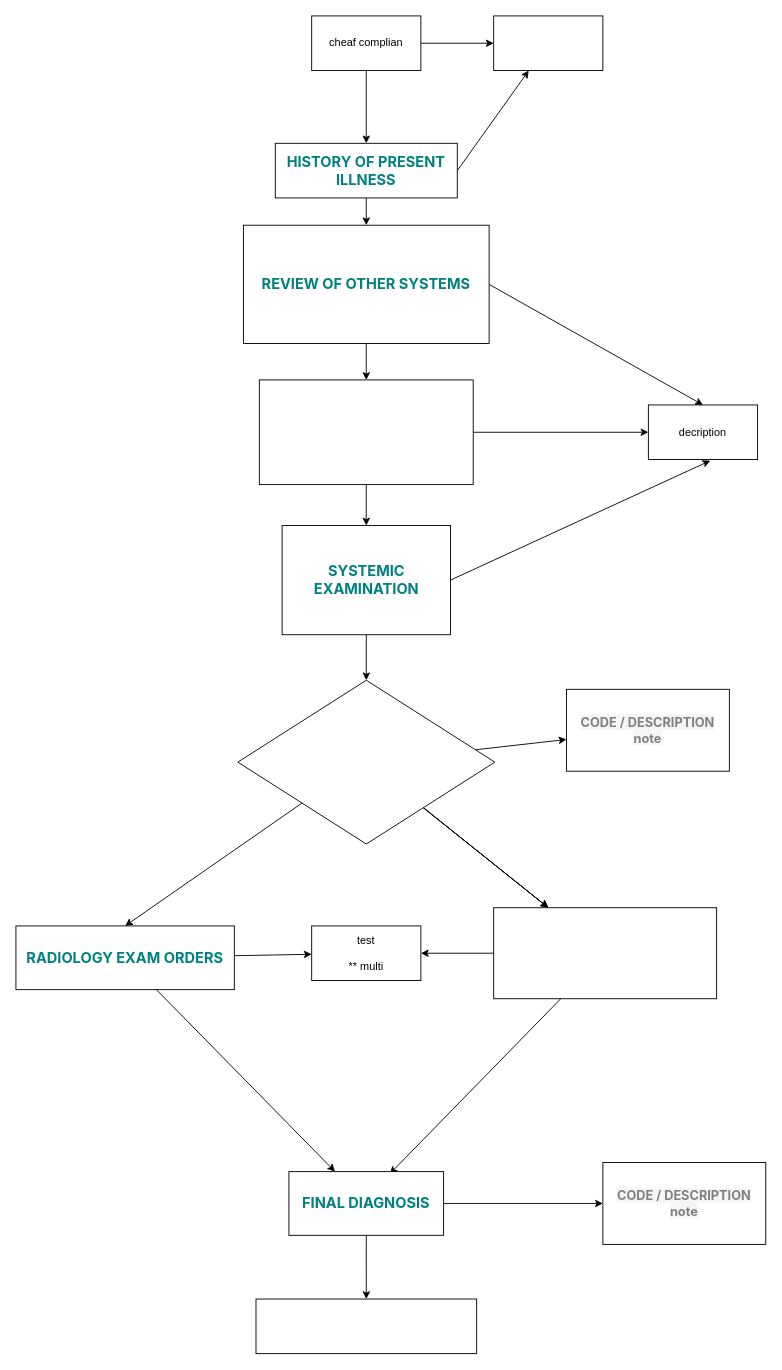
This 782x1370 diagram has some shape labels left out. Each missing label, with the centre of its shape:
"decription note" goes at point 548,43.
"GENERAL EXAMINATION" goes at point 365,432.
"LABORATORY TEST ORDERS" goes at point 605,953.
"PRELIMINARY DIAGNOSIS" goes at point 366,761.
"PRESCRIPTIONS or medication" goes at point 366,1326.
